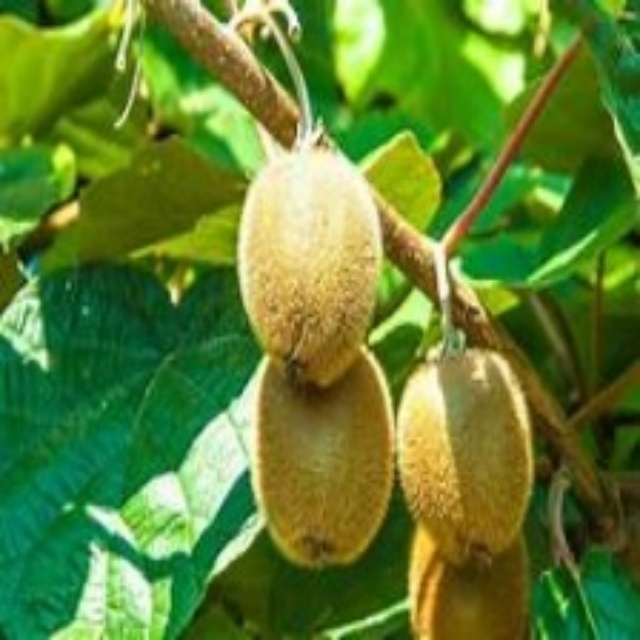kiwi: (226, 158, 395, 394), (254, 341, 399, 560), (407, 358, 538, 564)
